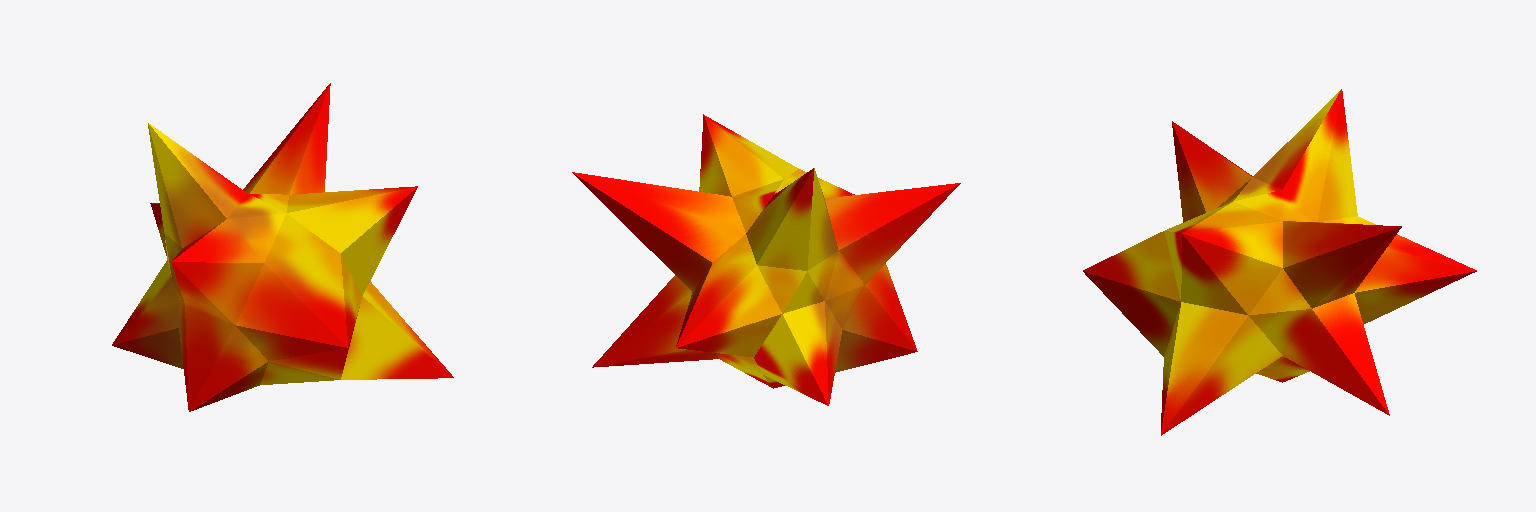
3 renders of one model, left to right at view 1: azimuth 30°, elevation 25°; view 2: azimuth 150°, elevation 25°; view 3: azimuth 270°, elevation 25°, orthographic.
Visible parts, largest first — view 1: Icosphere; view 2: Icosphere; view 3: Icosphere.
Boxes of the visible parts, box(x1,y1,x2,y2) form: Icosphere: box(112, 83, 453, 411); Icosphere: box(572, 114, 960, 405); Icosphere: box(1083, 89, 1476, 435).
Bounding box in the file's own units: 3.67 × 3.28 × 4.53.
Materials: 1 (1 with a texture image).